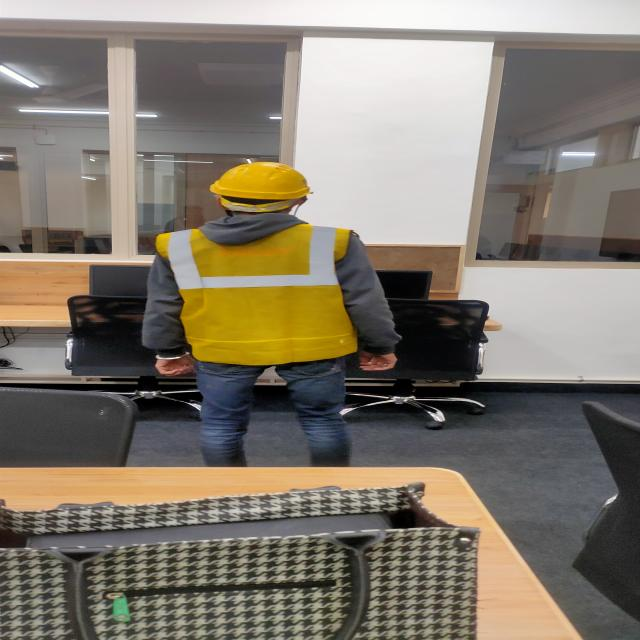safe: (140, 162, 408, 467)
